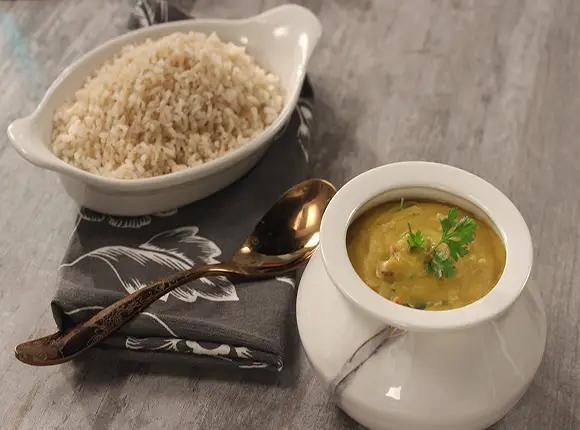dal: (338, 174, 521, 318)
rice: (56, 18, 289, 185)
